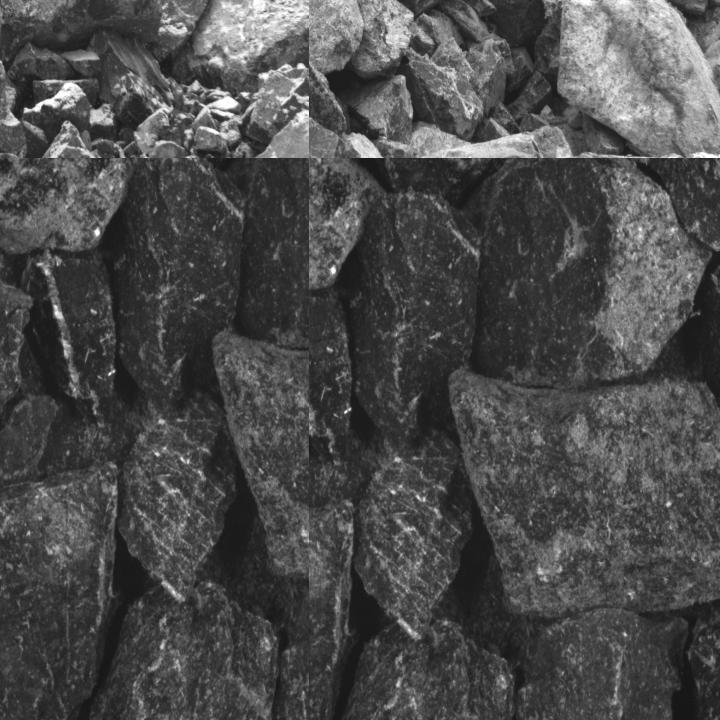stone: (446, 369, 719, 617), (471, 158, 709, 384), (357, 188, 480, 455), (120, 158, 245, 417), (54, 580, 280, 719), (0, 461, 121, 719), (555, 0, 719, 152), (210, 331, 308, 579), (118, 395, 234, 597), (354, 433, 470, 635), (309, 618, 516, 719), (20, 250, 115, 426), (0, 158, 148, 257), (235, 158, 308, 346), (175, 0, 308, 90), (309, 499, 357, 719), (309, 158, 384, 295), (327, 158, 523, 206), (0, 0, 162, 57), (92, 34, 186, 114), (309, 287, 351, 465), (349, 0, 441, 80), (639, 158, 719, 250), (407, 47, 484, 140), (0, 244, 33, 449), (393, 121, 570, 157), (0, 393, 59, 480), (152, 0, 216, 65), (309, 0, 363, 74), (309, 38, 343, 142), (274, 40, 308, 138), (229, 115, 308, 157), (36, 126, 125, 157), (7, 47, 73, 80), (309, 114, 345, 157), (61, 48, 102, 76), (198, 125, 228, 155)
